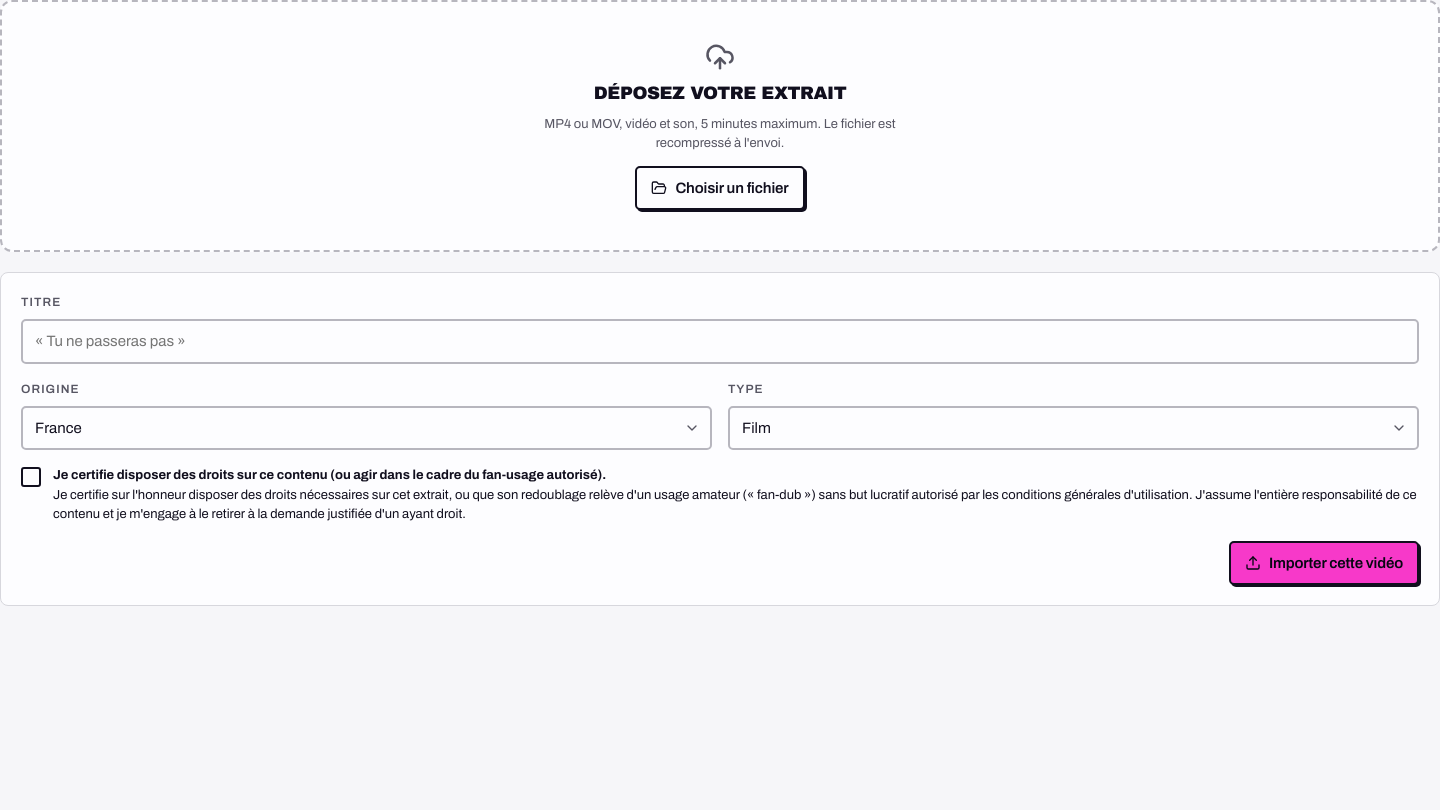
Test: ImportForm › bloque la soumission sans fichier sélectionné
Click the button "Importer cette vidéo": (1324, 563) 1229,541 -> 1419,585
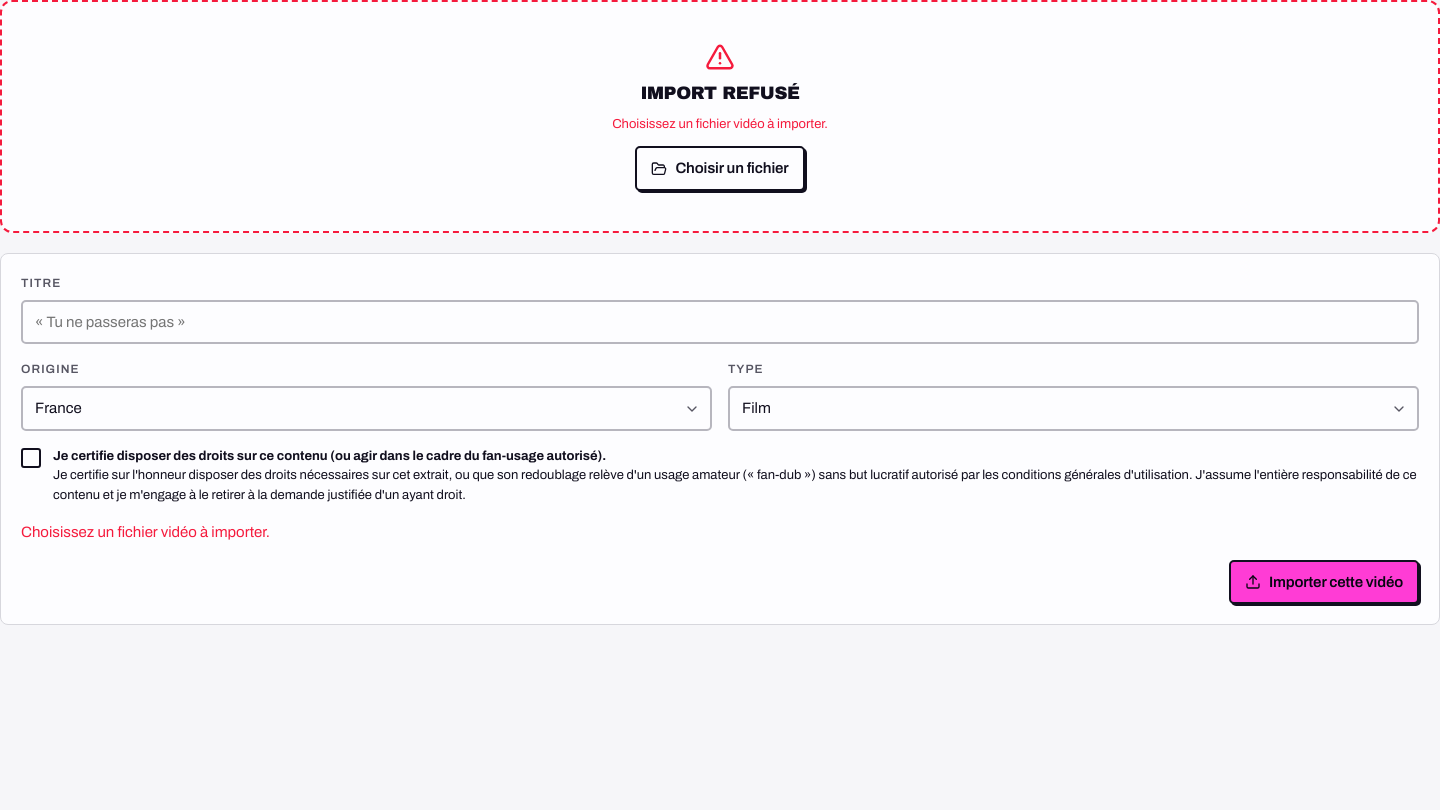
Now the message shows "Choisissez un fichier", box 21,524 -> 270,540
